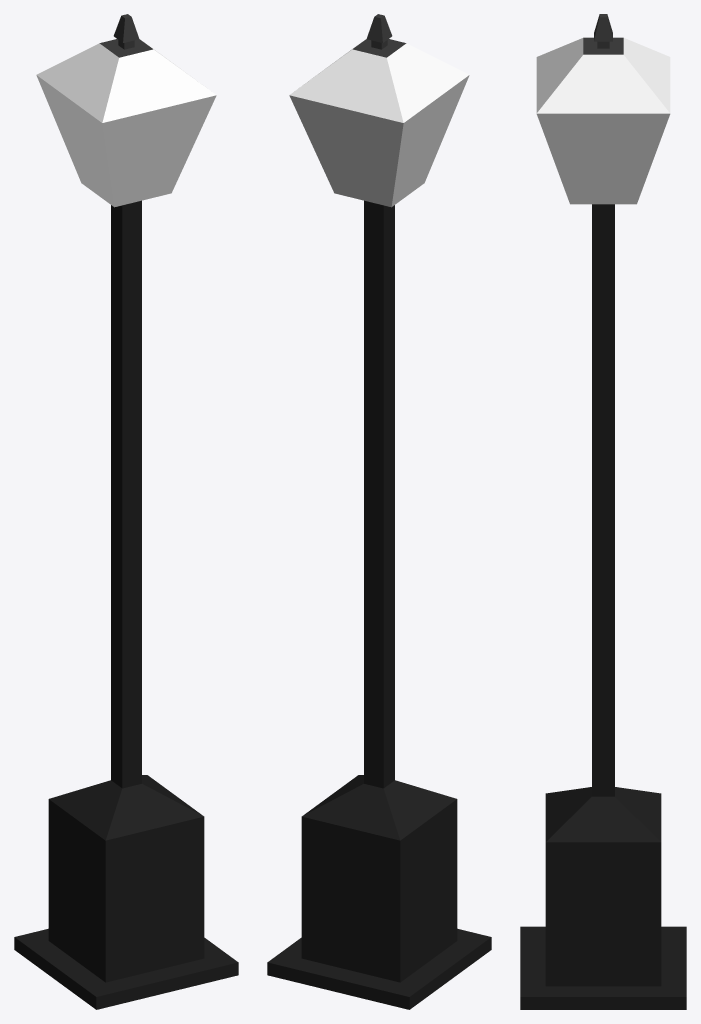
File: Street_Lamp_Post.fbx
3 views of the same model, side by side, from view 1: azimuth 30°, elevation 25°; view 2: azimuth 150°, elevation 25°; view 3: azimuth 270°, elevation 25° (orthographic).
Visible parts, largest first — view 1: Street_Lamp_Post; view 2: Street_Lamp_Post; view 3: Street_Lamp_Post.
Boxes of the visible parts, x1=… form: Street_Lamp_Post: x1=14, y1=14, x2=238, y2=1009; Street_Lamp_Post: x1=267, y1=14, x2=491, y2=1009; Street_Lamp_Post: x1=520, y1=14, x2=686, y2=1009.
Size of the model in its own units: 34.56 by 220 by 34.56.
